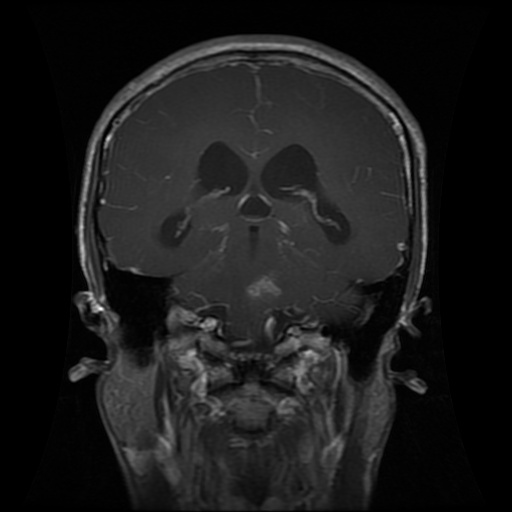glioma: (244, 267, 285, 308)
